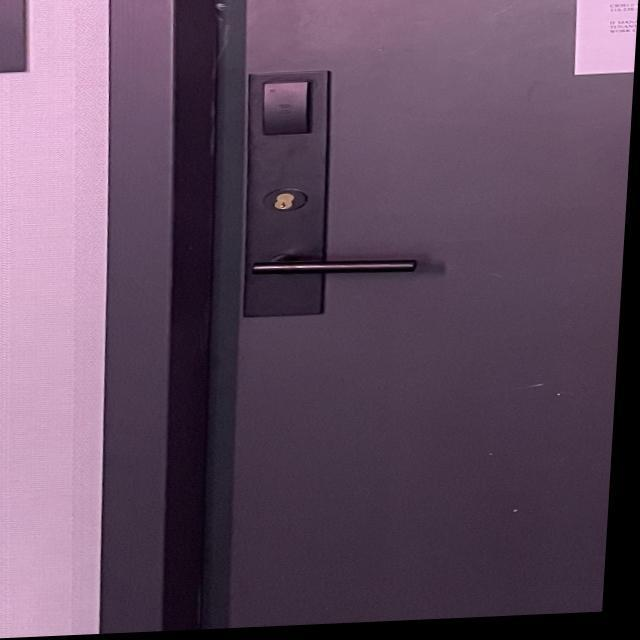door_handle: (234, 247, 439, 294)
